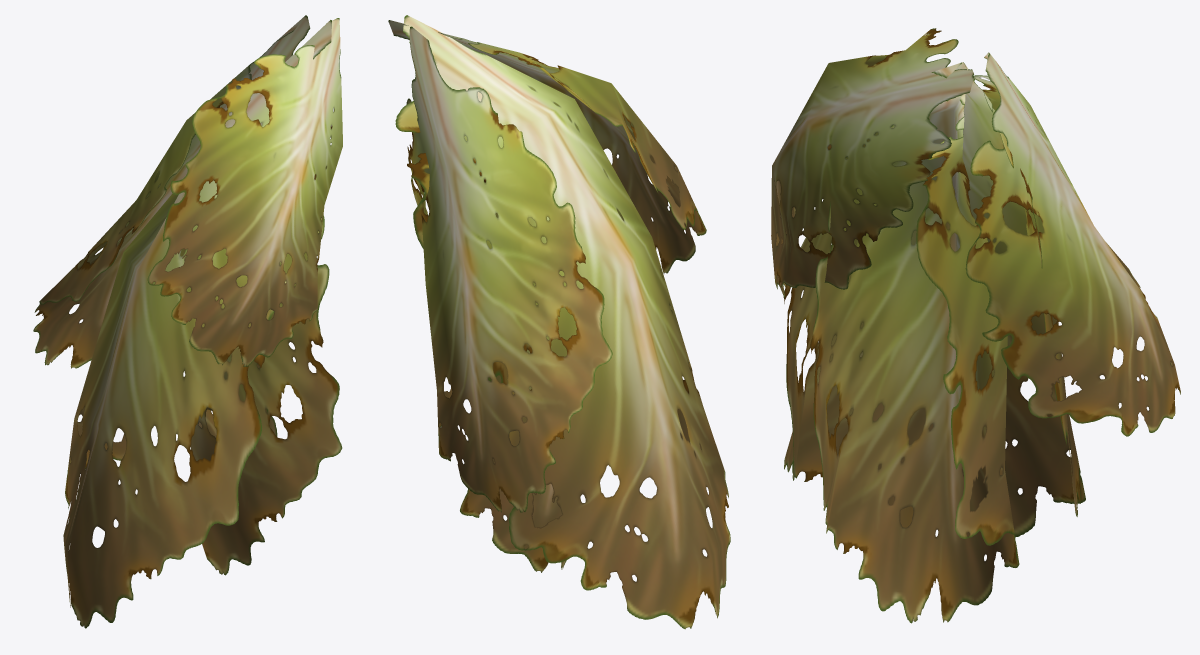
File: plant_lettuce_S4_B.fbx
3 views of the same model, side by side, from view 1: azimuth 30°, elevation 25°; view 2: azimuth 150°, elevation 25°; view 3: azimuth 270°, elevation 25° (orthographic). The views are drawn at different scales.
Parts seen in each view (by area): view 1: plant_lettuce_S4_B; view 2: plant_lettuce_S4_B; view 3: plant_lettuce_S4_B.
Part boxes in pixels (x1,y1,x2,y2): plant_lettuce_S4_B: (33, 15, 342, 628); plant_lettuce_S4_B: (388, 15, 730, 629); plant_lettuce_S4_B: (771, 28, 1180, 623).
Size of the model in its own units: 0.148 by 0.265 by 0.1472.
